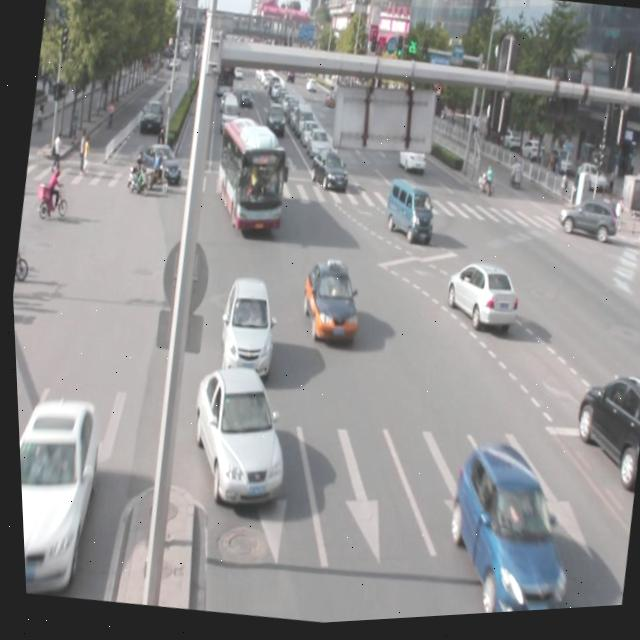car: (429, 438, 579, 621), (14, 385, 108, 595), (177, 361, 295, 517), (561, 374, 640, 495), (210, 275, 281, 386), (291, 257, 365, 353), (437, 260, 521, 339)
truck: (379, 179, 437, 250)
van: (205, 118, 294, 242)
